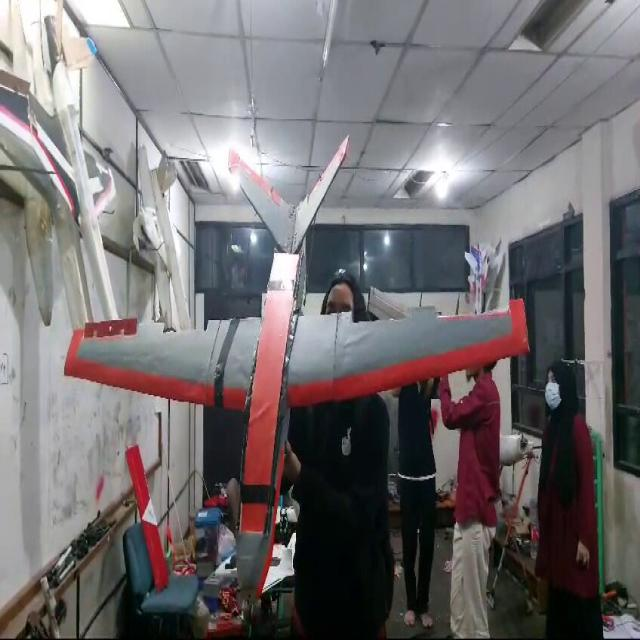plane: (62, 132, 530, 622)
